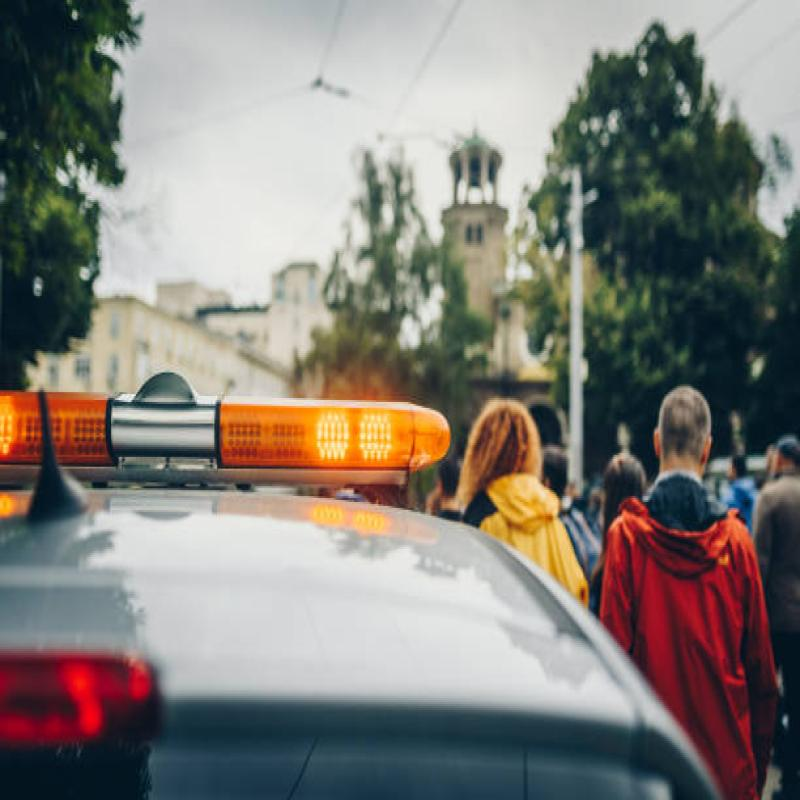AmbulanceSiren: (0, 336, 467, 522)
